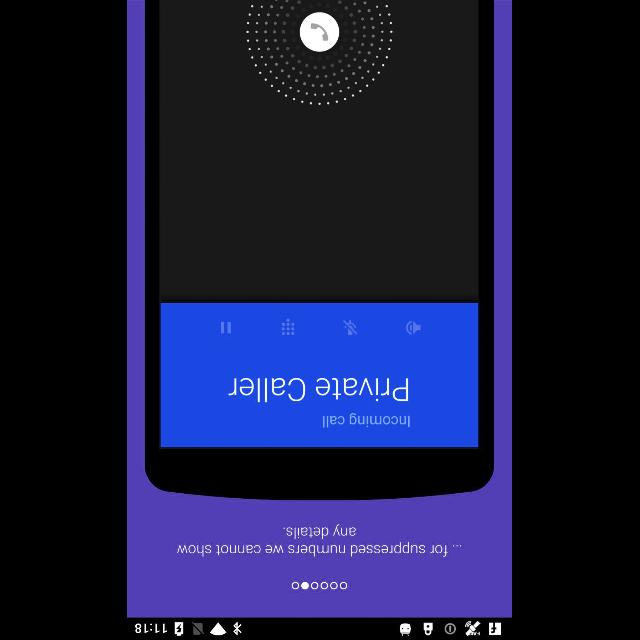image: (146, 0, 494, 500)
pageindicator: (292, 581, 348, 589)
text: (178, 524, 462, 556)
uppertaskbar: (128, 617, 512, 639)
